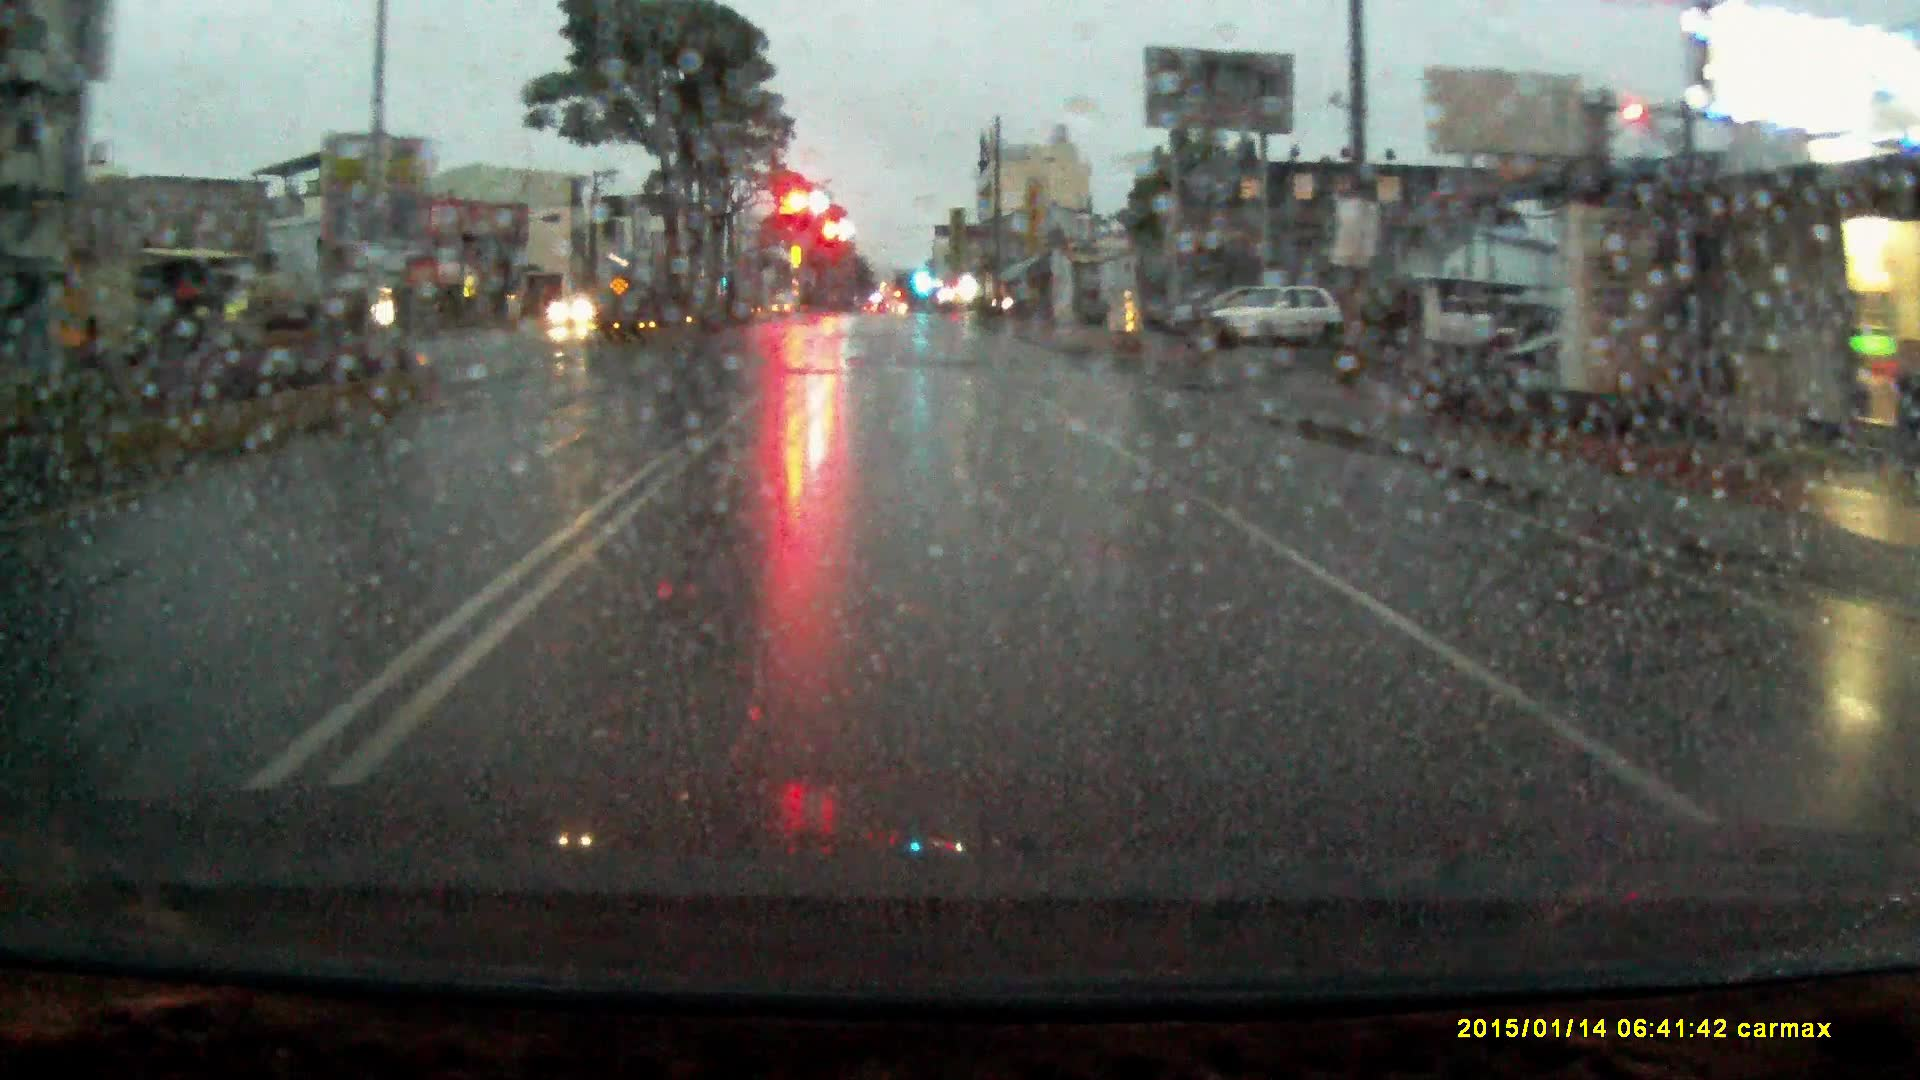vehicle: (1205, 280, 1354, 349), (1175, 287, 1279, 349), (553, 293, 604, 330)
